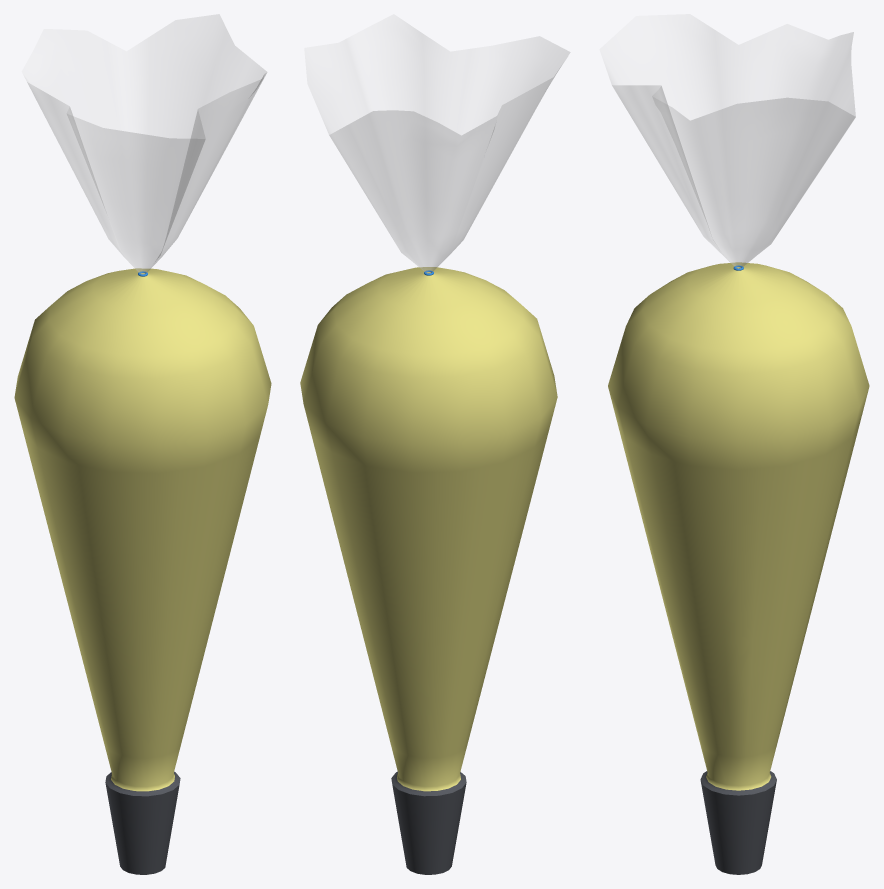
Rendered from MangaPasteleraAmarilla.fbx.
3 renders of one model, left to right at view 1: azimuth 30°, elevation 25°; view 2: azimuth 150°, elevation 25°; view 3: azimuth 270°, elevation 25°, orthographic.
Parts seen in each view (by area): view 1: Cone; view 2: Cone; view 3: Cone.
Part boxes in pixels (<box>): Cone: <box>14,14,271,874</box>; Cone: <box>300,14,569,874</box>; Cone: <box>600,14,869,874</box>.
Bounding box in the file's own units: 200 × 689 × 206.
